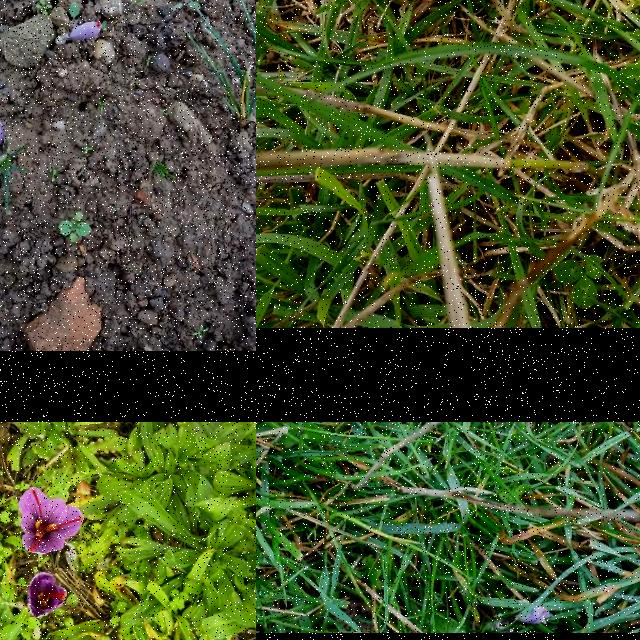flower: (20, 488, 84, 554), (28, 574, 68, 618), (72, 22, 104, 42), (0, 105, 5, 150)
